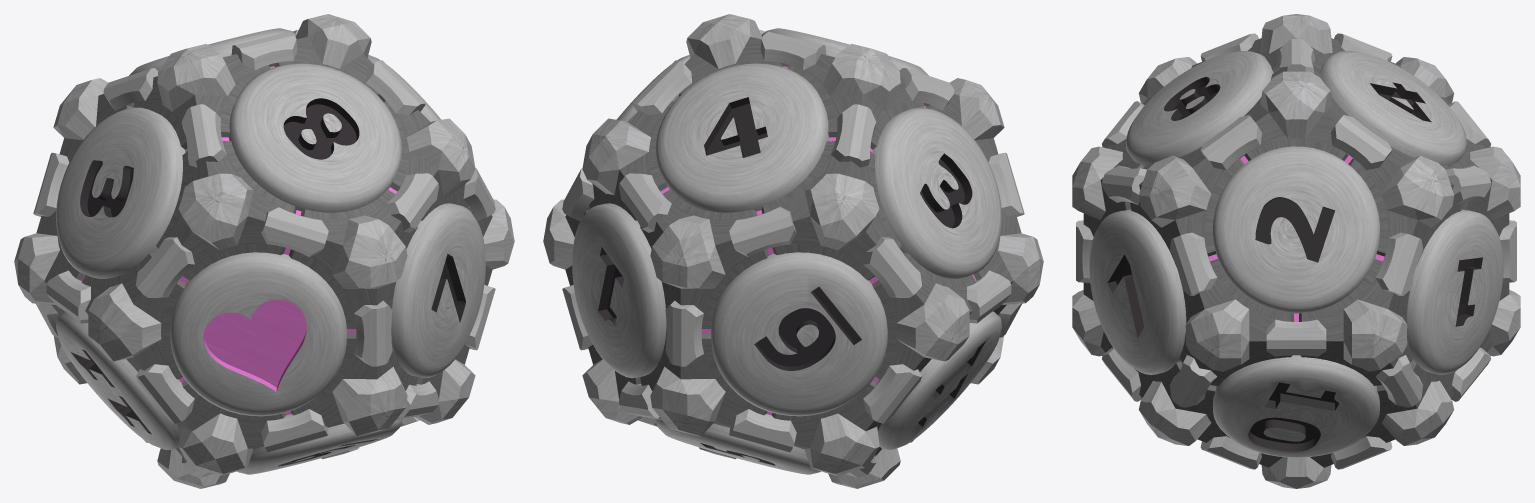
The model's file is wcube_d12.glb.
The picture shows the model from 3 angles, left to right: view 1: azimuth 30°, elevation 25°; view 2: azimuth 150°, elevation 25°; view 3: azimuth 270°, elevation 25°; orthographic projection. The views are drawn at different scales.
Visible parts, largest first — view 1: d12_heart.001; view 2: d12_heart.001; view 3: d12_heart.001.
Boxes of the visible parts, <box> form: d12_heart.001: <box>14,14,514,488</box>; d12_heart.001: <box>543,14,1043,488</box>; d12_heart.001: <box>1072,14,1520,488</box>.
Size of the model in its own units: 167 by 167 by 167.
1 material, 1 textured.
